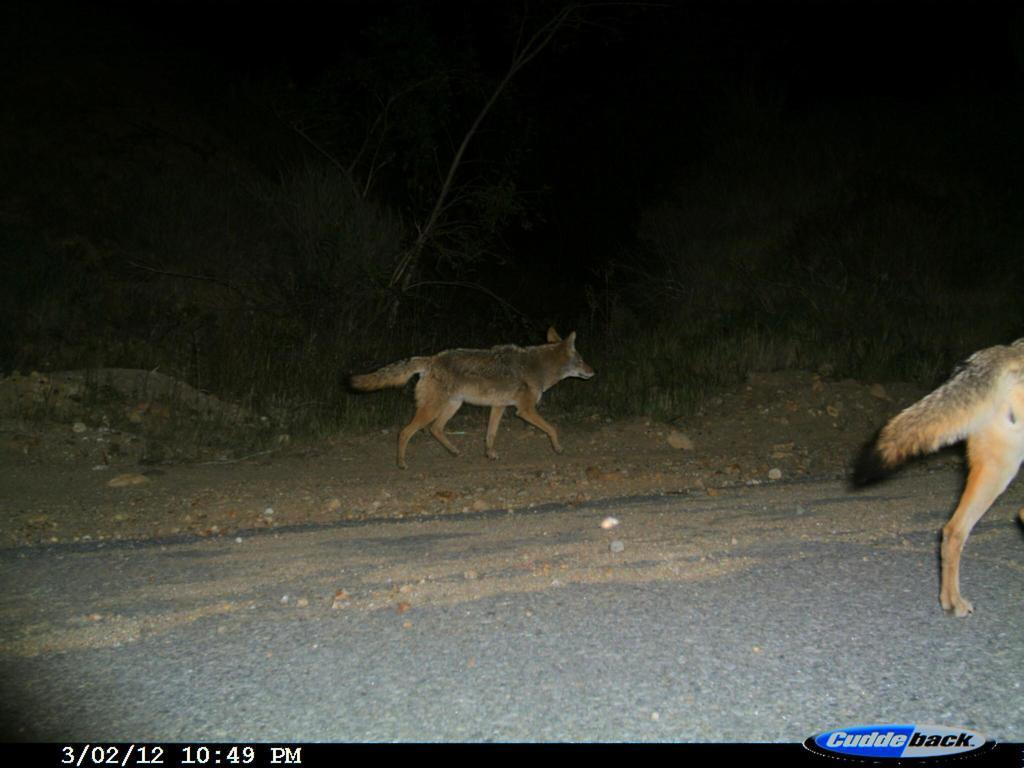coyote: (830, 331, 1024, 633), (335, 321, 604, 482)
